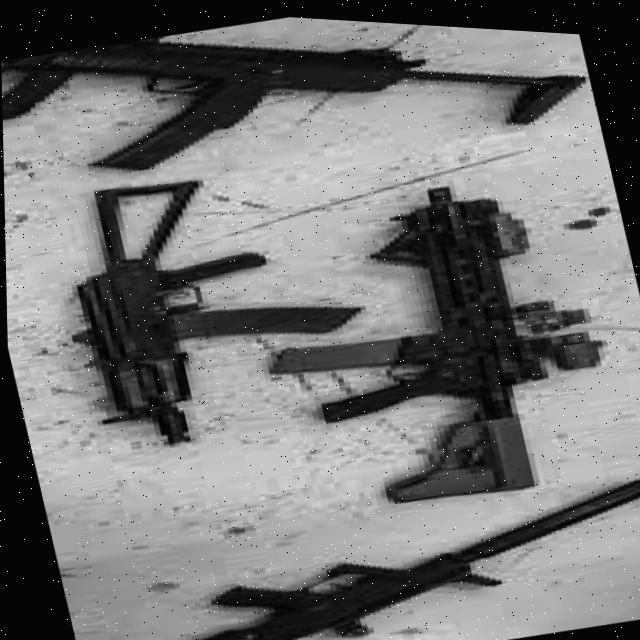firearm: (235, 147, 633, 531), (0, 0, 594, 234), (53, 436, 640, 640), (44, 136, 390, 467)
